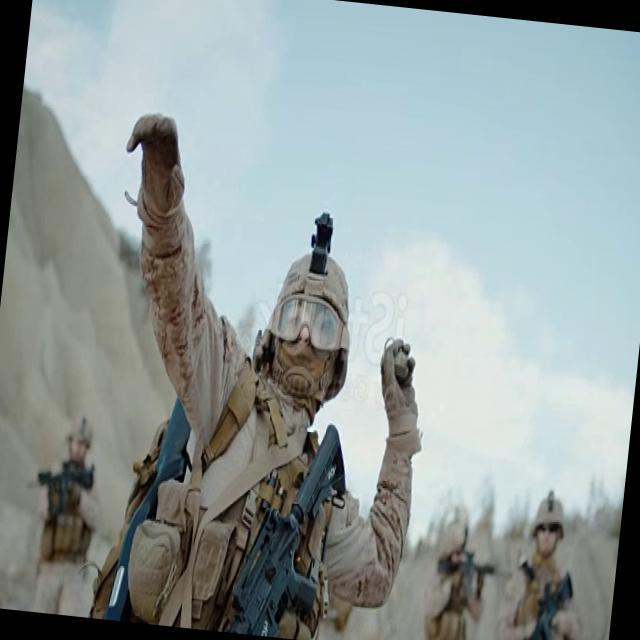grenade: (378, 332, 416, 381)
